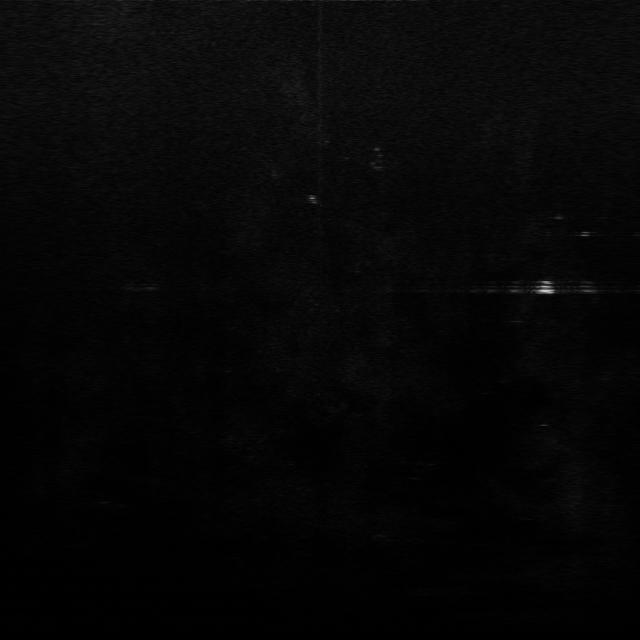rov: (536, 276, 558, 298)
